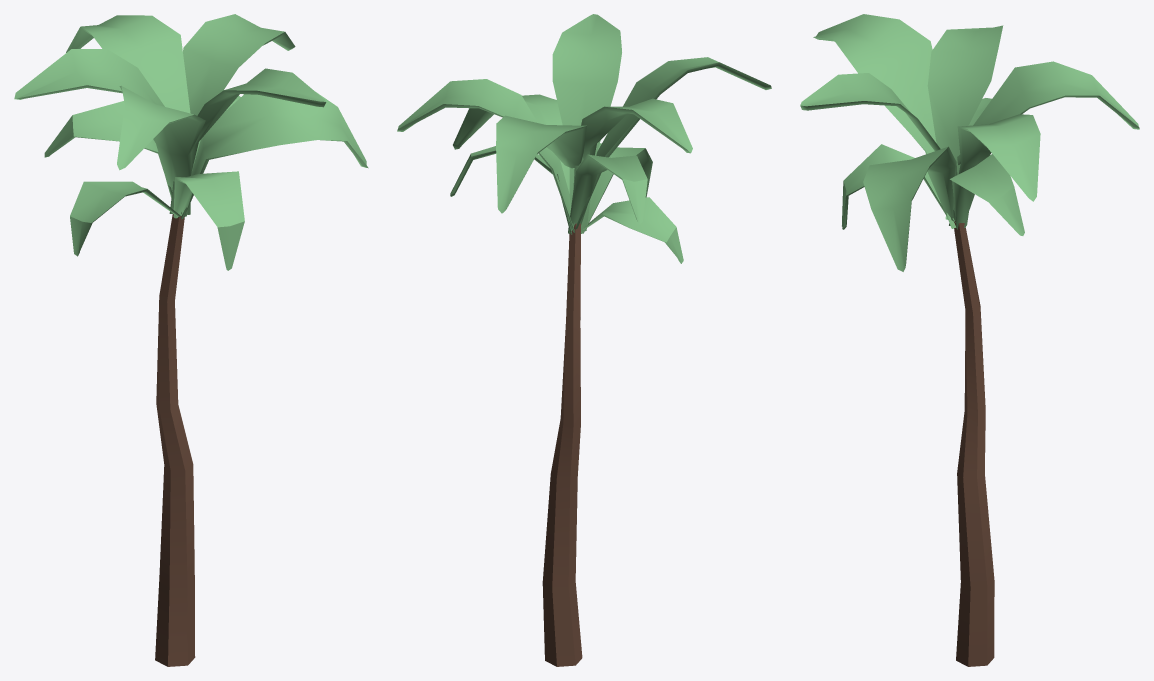
Rendered from PalmTree03.glb.
3 views of the same model, side by side, from view 1: azimuth 30°, elevation 25°; view 2: azimuth 150°, elevation 25°; view 3: azimuth 270°, elevation 25° (orthographic). The views are drawn at different scales.
Parts seen in each view (by area): view 1: PalmTree004; view 2: PalmTree004; view 3: PalmTree004.
Boxes of the visible parts, box(x1,y1,x2,y2) form: PalmTree004: box(14, 14, 368, 666); PalmTree004: box(397, 14, 771, 666); PalmTree004: box(800, 14, 1139, 666).
Bounding box in the file's own units: 4.11 × 8.07 × 4.17.
